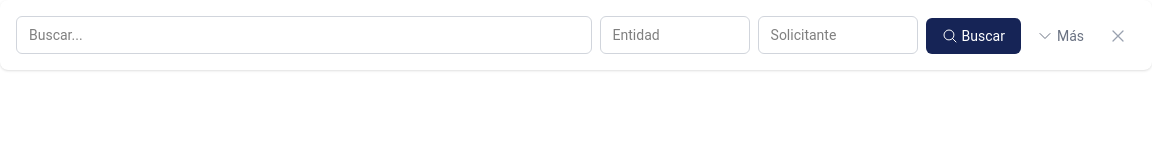
Scenario: DocumentoFiltersComponent › debe mostrar campos expandidos al hacer clic en Más
What coordinates should you click on to do the following:
click the button "Más"
I would click on:
 (1060, 36)
Its box is [1029,18,1092,54].
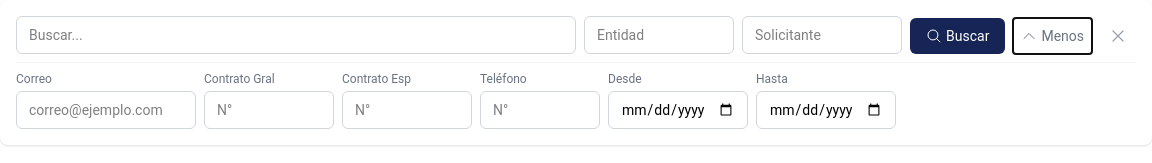
Result: the field with placeholder "correo@ejemplo.com" is shown at [16,91,196,129]
Result: the text "Desde" is shown at [608,72,642,86]
Result: the text "Hasta" is shown at [756,72,788,86]
